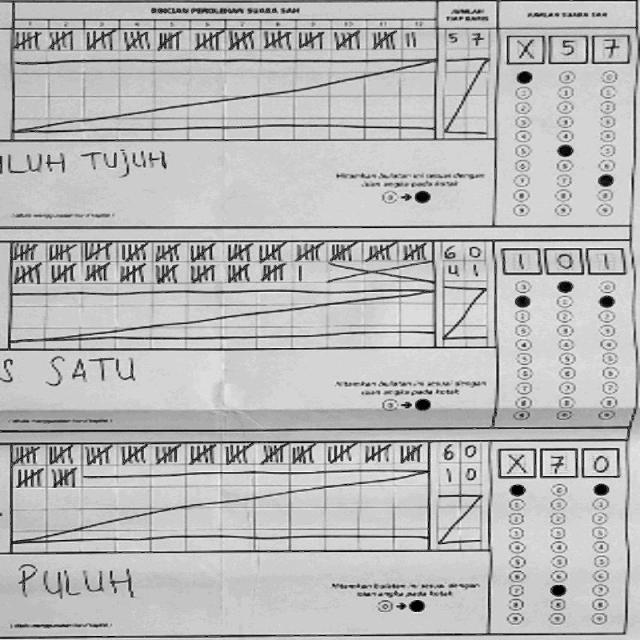Suara: (491, 440, 624, 481), (498, 27, 632, 64), (495, 242, 628, 274)
